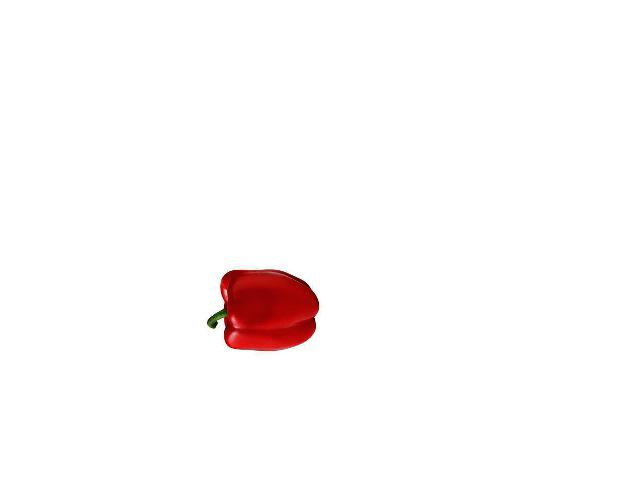bell_pepper: (207, 264, 322, 355)
